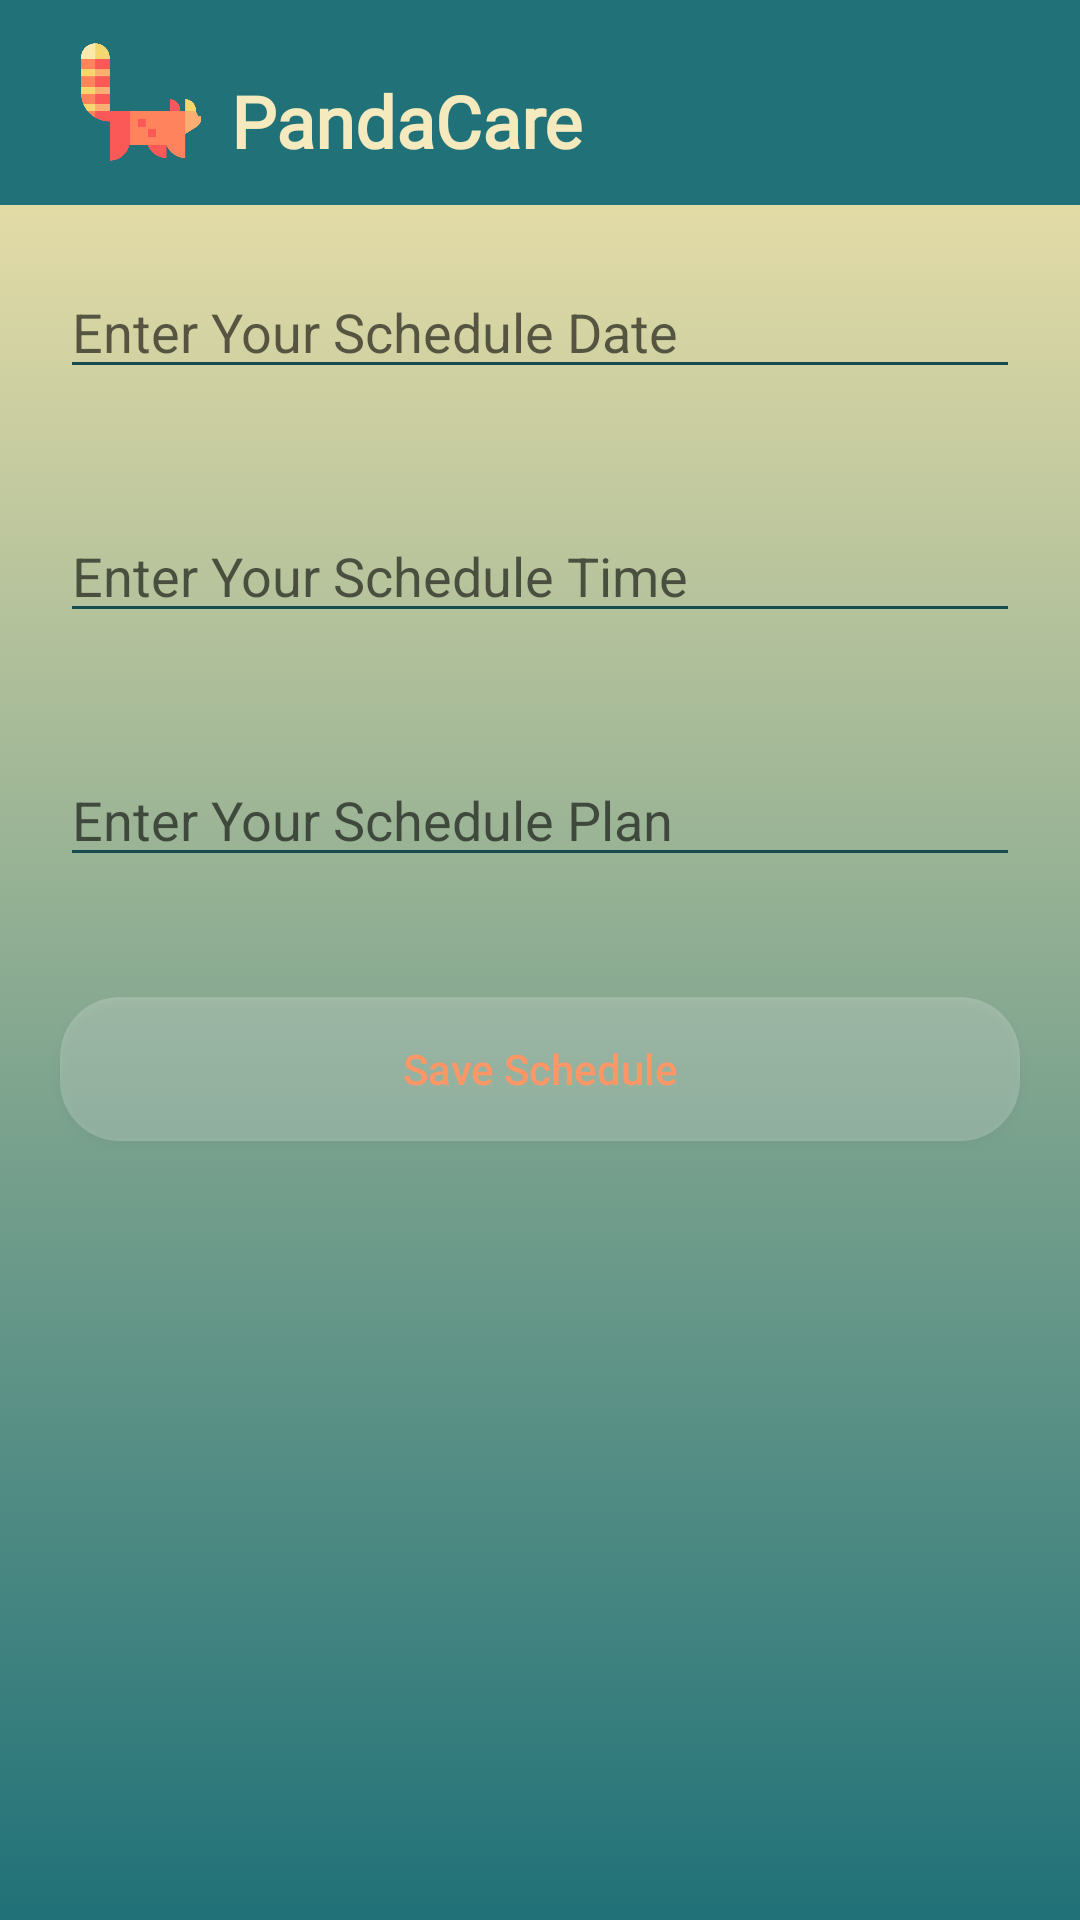

Icons on this 1080px×1920px Android screen, each with the point to tap as [x,y]:
panda main: [141,102]
